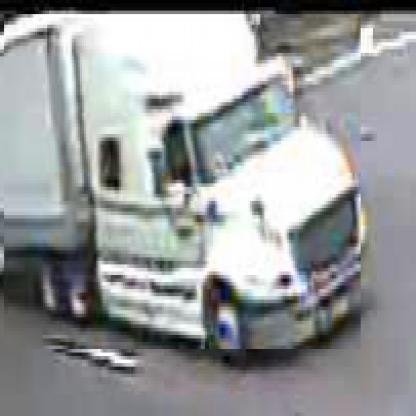container: (5, 15, 364, 354)
